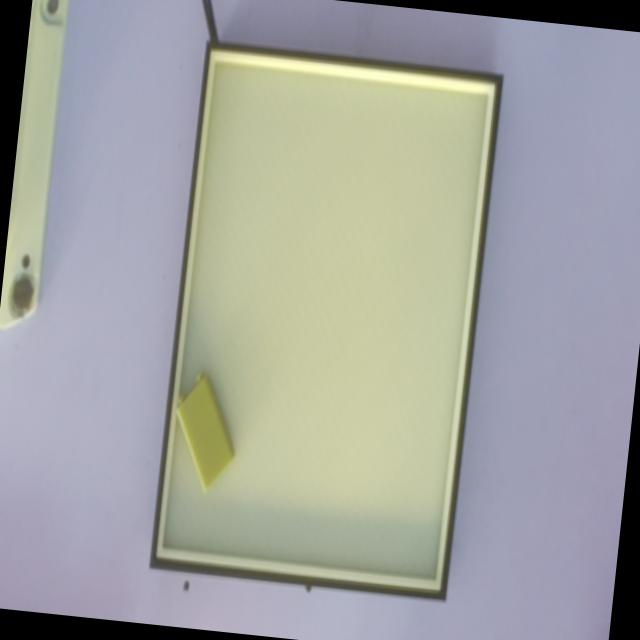bateria: (175, 370, 235, 494)
mesa: (149, 42, 503, 600)
